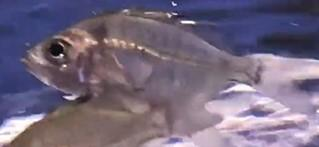Glass Perchlet: (23, 7, 317, 132)
